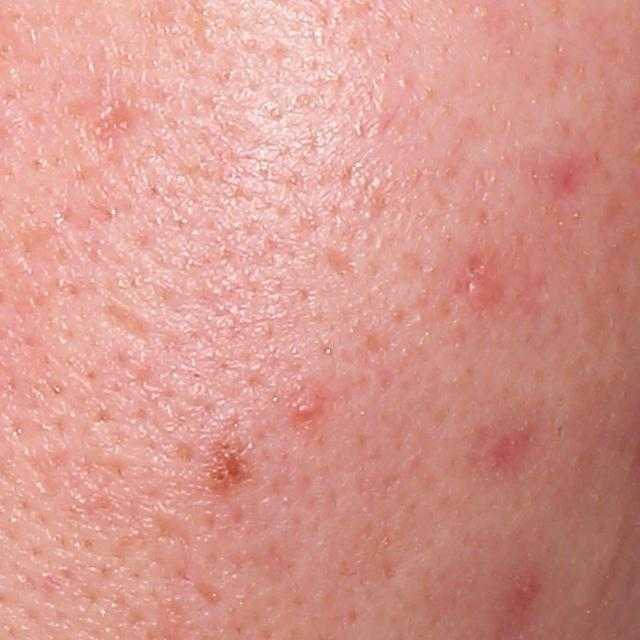atrophic_scar: (96, 299, 158, 349), (83, 100, 133, 147), (151, 509, 193, 549), (318, 245, 362, 282), (190, 579, 224, 611)
nevus: (207, 428, 254, 496)
papule: (465, 266, 509, 316), (501, 564, 547, 611), (286, 378, 330, 425)
